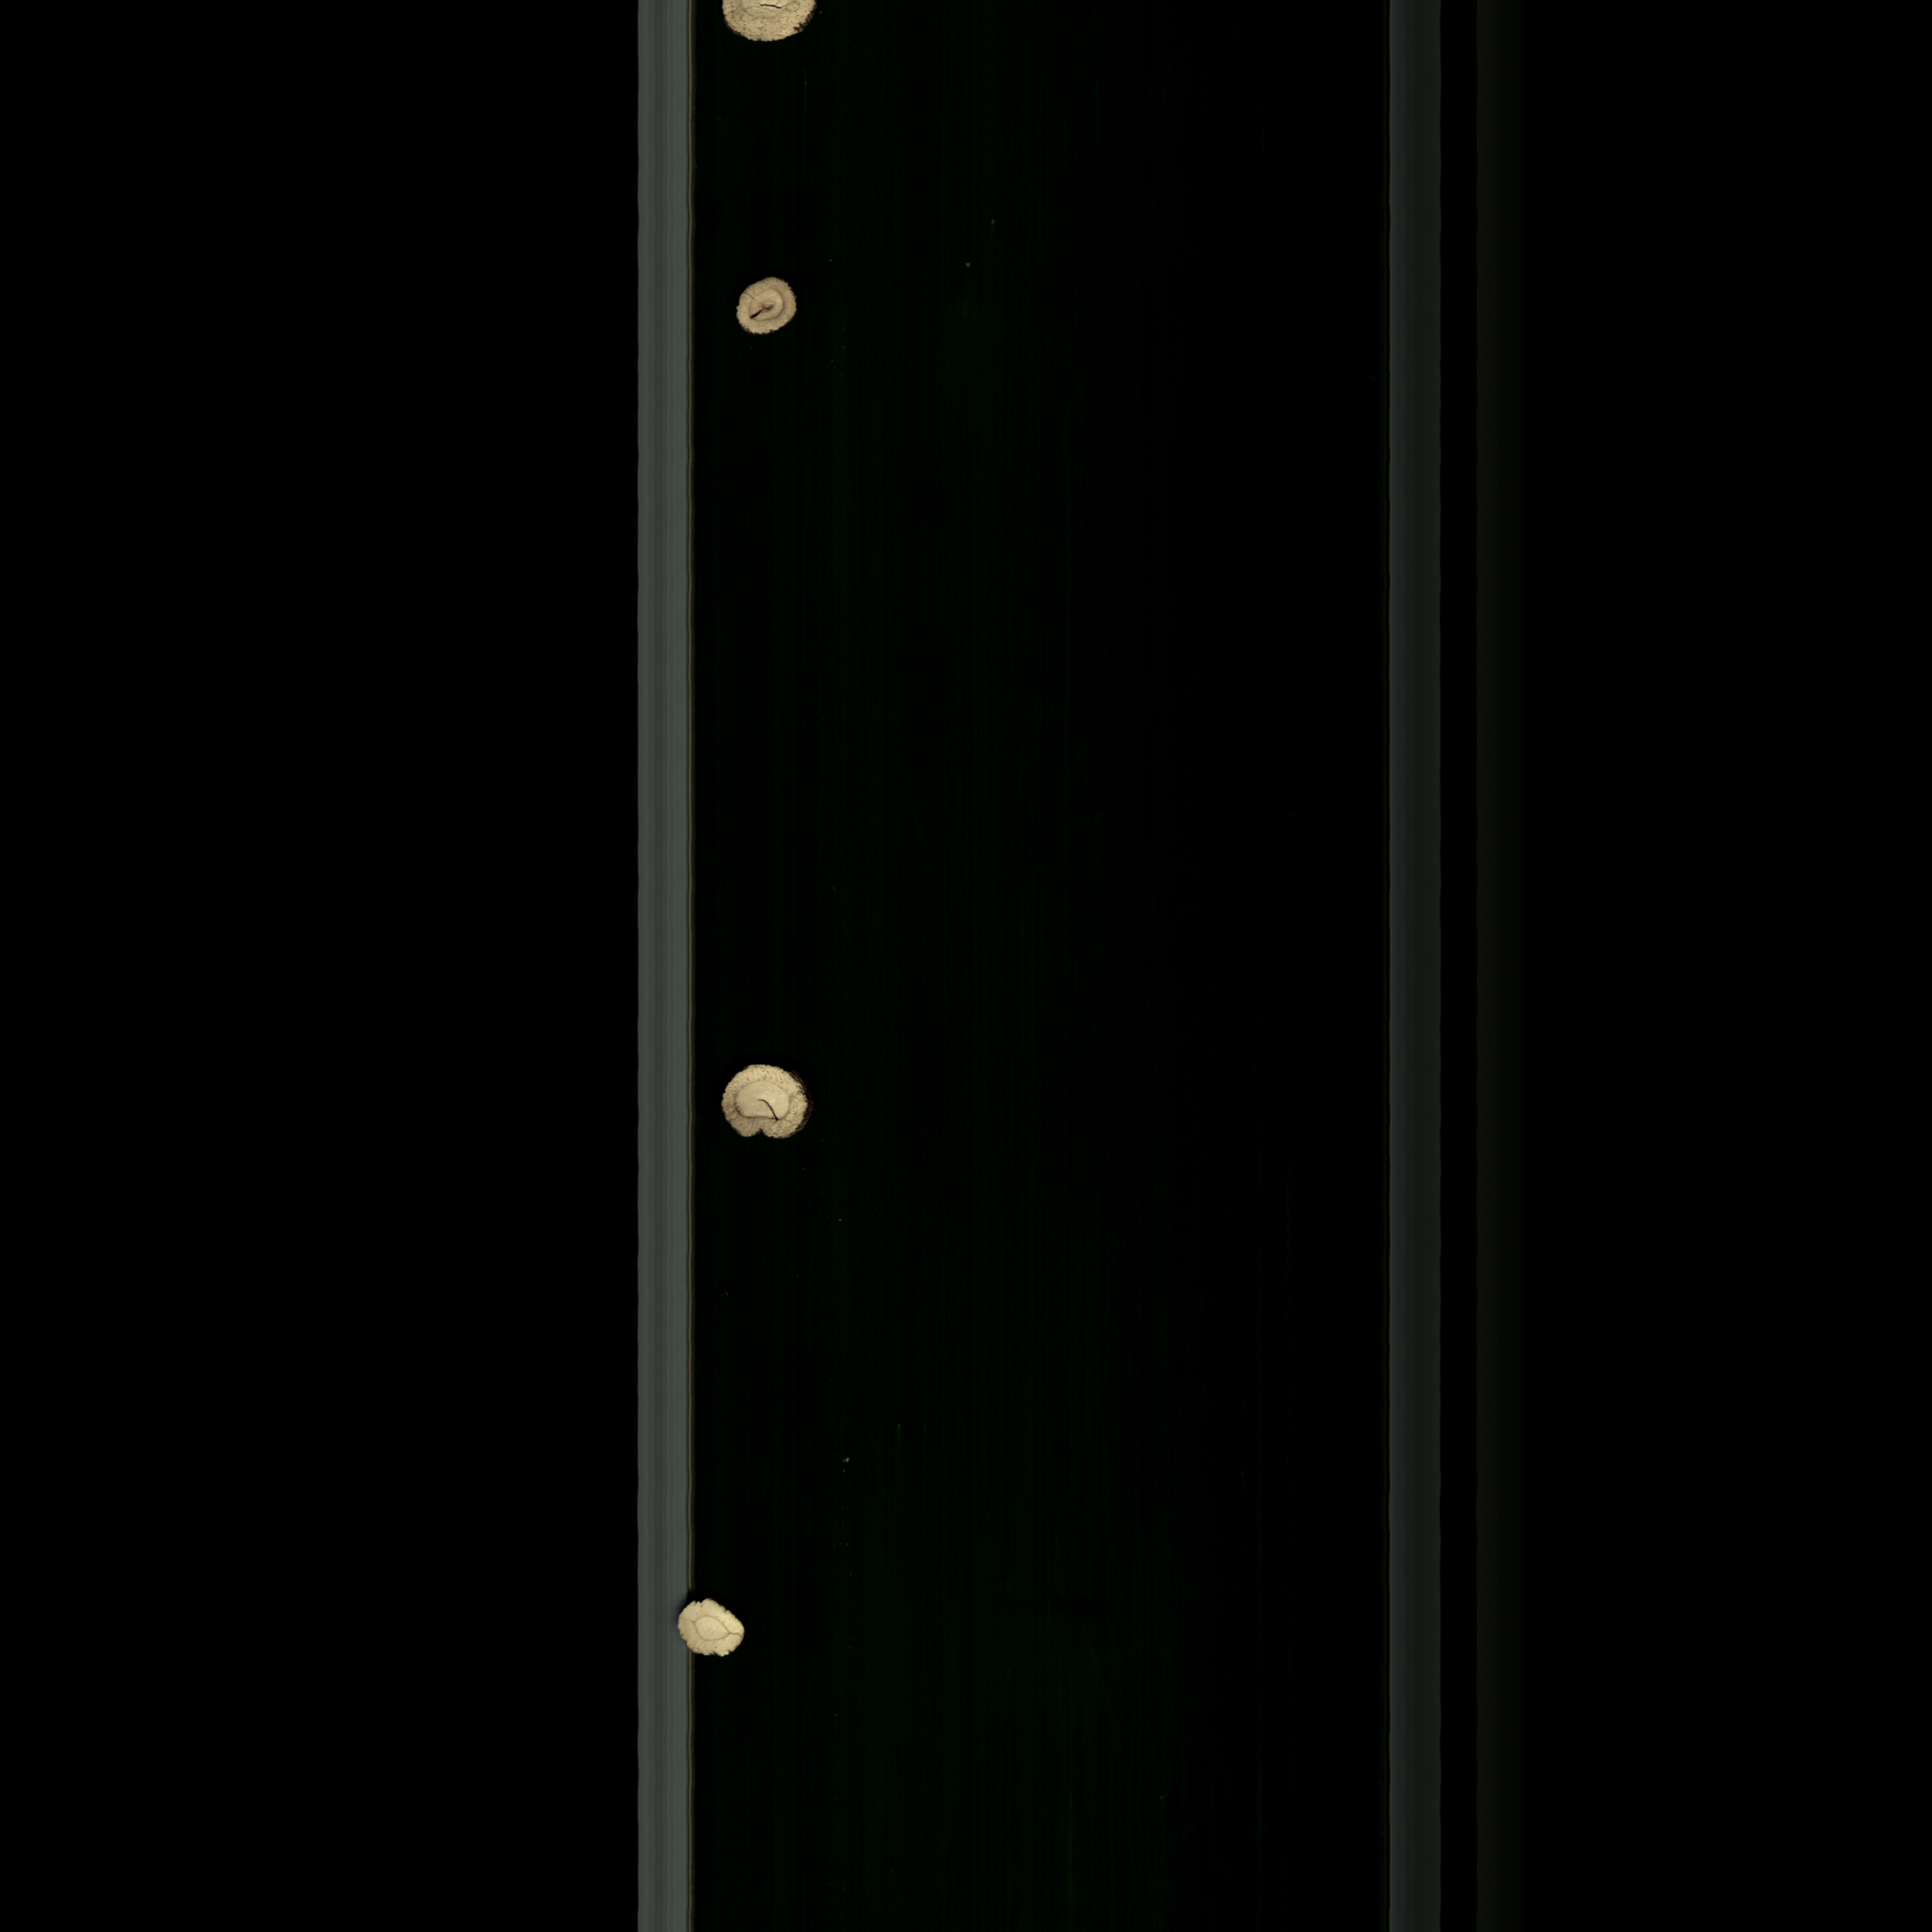hole: (704, 1058, 826, 1154), (727, 278, 823, 336)
